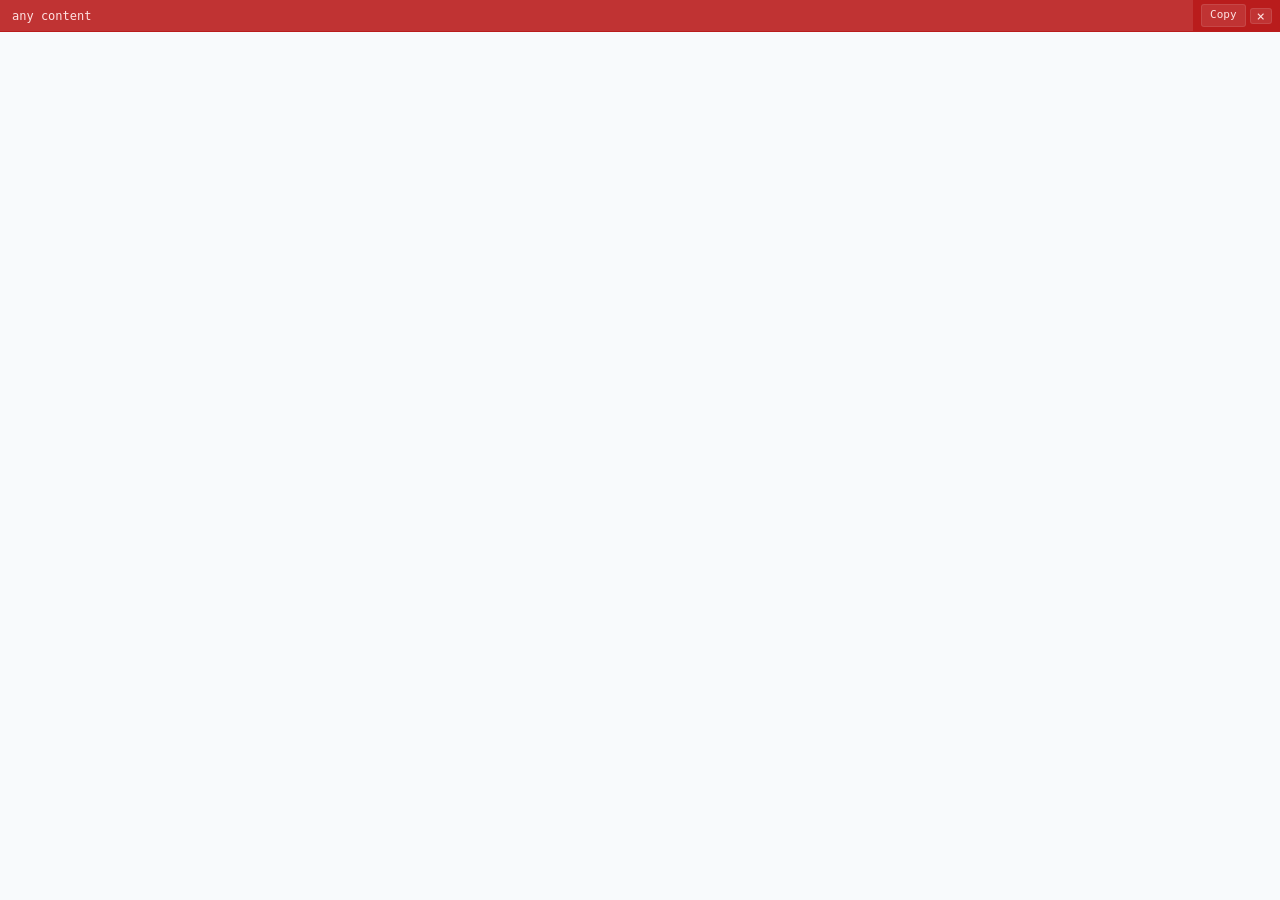
Test: ErrorBanner (Sprint 13+) › clicking the message body opens the viewer modal too
Click the button with test id "error-banner-message": (52, 16) [0,0,1193,31]
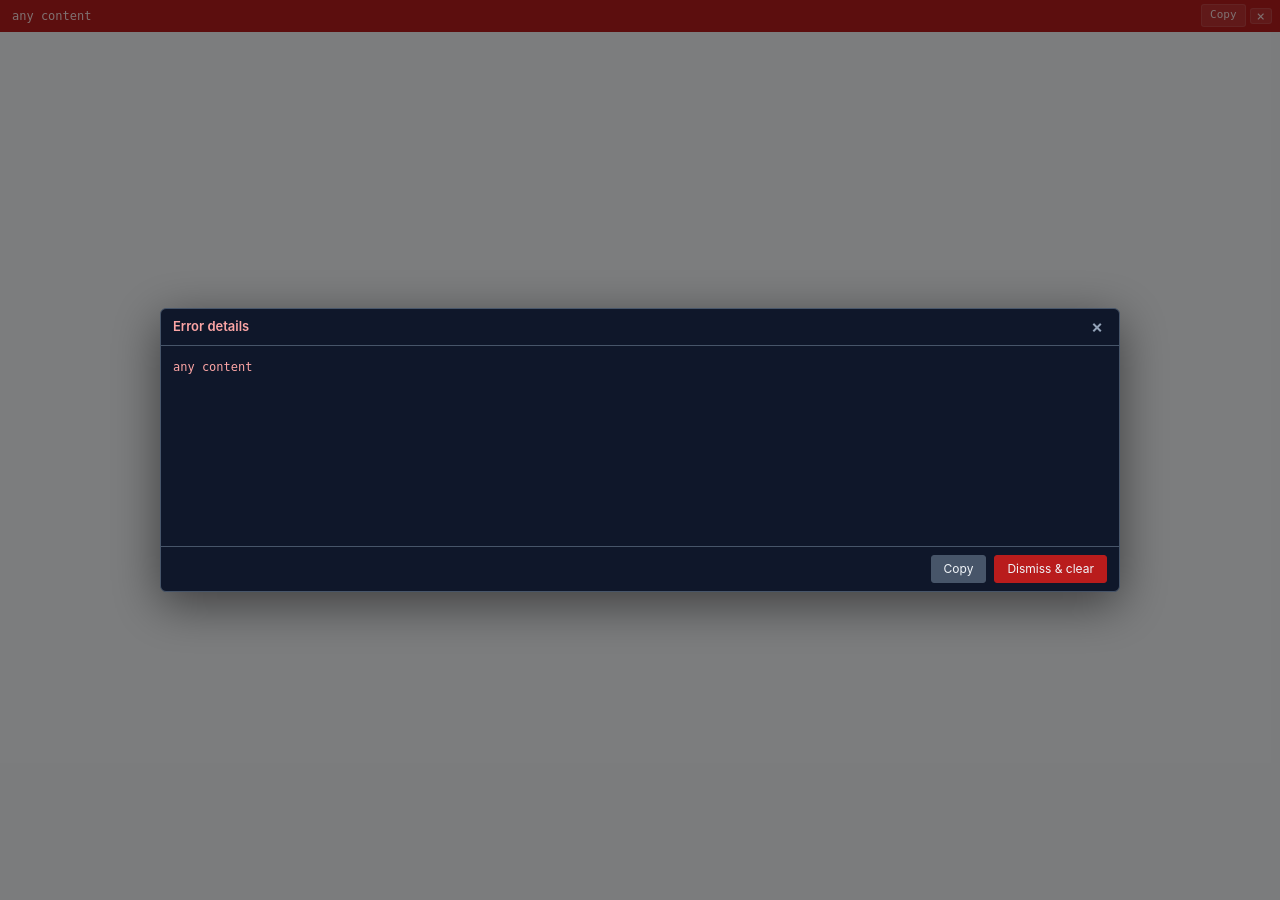
expect the dialog with test id "error-viewer-overlay" is shown: met
